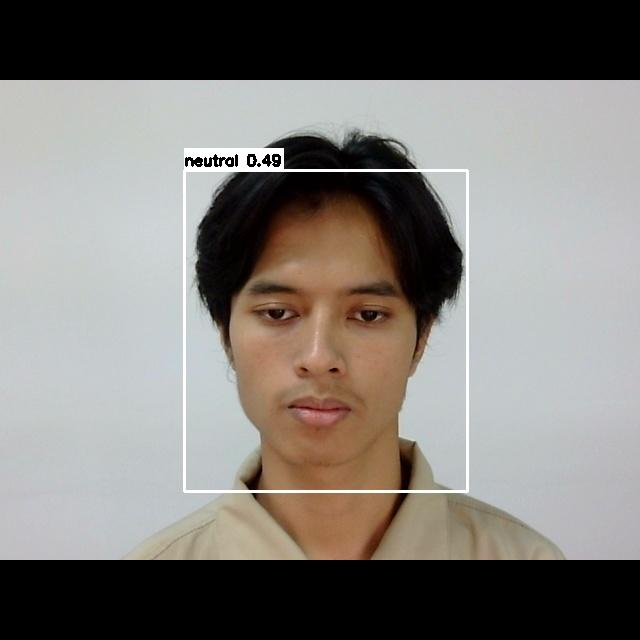Natural: (225, 256, 429, 461)
